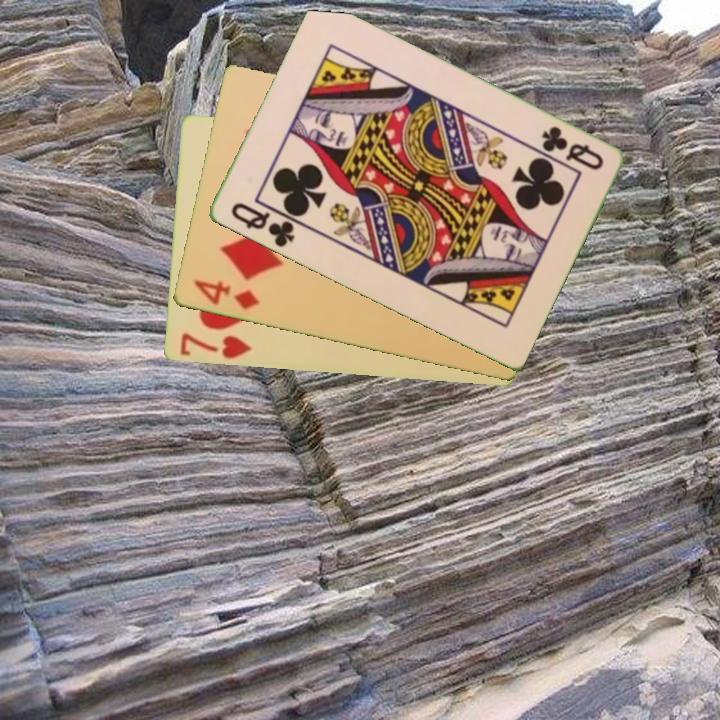4d: (190, 277, 263, 313)
7h: (176, 330, 254, 362)
Qc: (226, 199, 298, 251), (537, 123, 606, 174)
